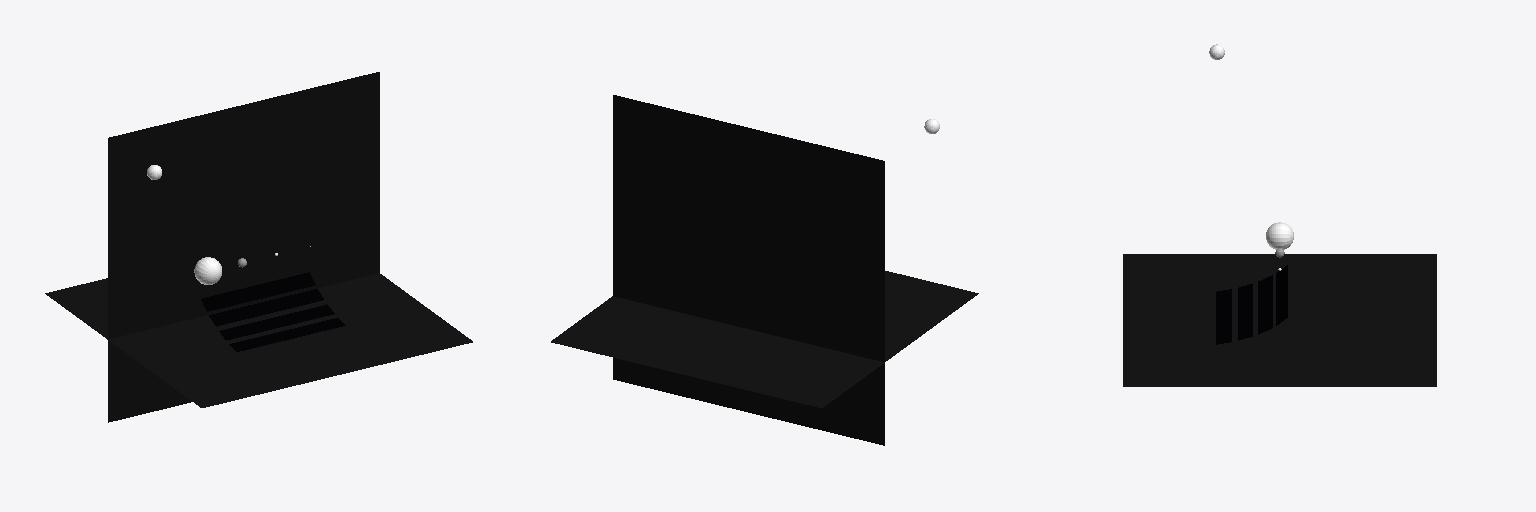
The model's file is VeachMIS.obj.
The picture shows the model from 3 angles: view 1: azimuth 30°, elevation 25°; view 2: azimuth 150°, elevation 25°; view 3: azimuth 270°, elevation 25°; orthographic projection.
Visible parts, largest first — view 1: wall, floor1, glossyplane4, glossyplane3, glossyplane2, glossyplane1, SphereLight4; view 2: wall, floor1; view 3: floor1, glossyplane1, glossyplane3, glossyplane2, glossyplane4, SphereLight4.
Boxes of the visible parts, x1,y1,x2,y2 form: wall: [108, 72, 379, 422]; floor1: [45, 273, 472, 407]; glossyplane4: [201, 272, 315, 311]; glossyplane3: [209, 289, 323, 326]; glossyplane2: [219, 304, 334, 340]; glossyplane1: [229, 318, 345, 351]; SphereLight4: [194, 257, 221, 284]; wall: [613, 95, 884, 445]; floor1: [551, 271, 978, 407]; floor1: [1123, 254, 1436, 386]; glossyplane1: [1216, 289, 1231, 344]; glossyplane3: [1258, 275, 1272, 334]; glossyplane2: [1238, 284, 1252, 340]; glossyplane4: [1276, 265, 1287, 325]; SphereLight4: [1266, 222, 1293, 249].
Bounding box in the file's own units: 20.5 × 20.5 × 20.